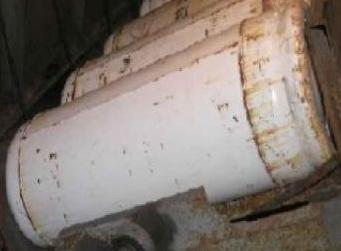cylinder: (1, 0, 341, 251)
